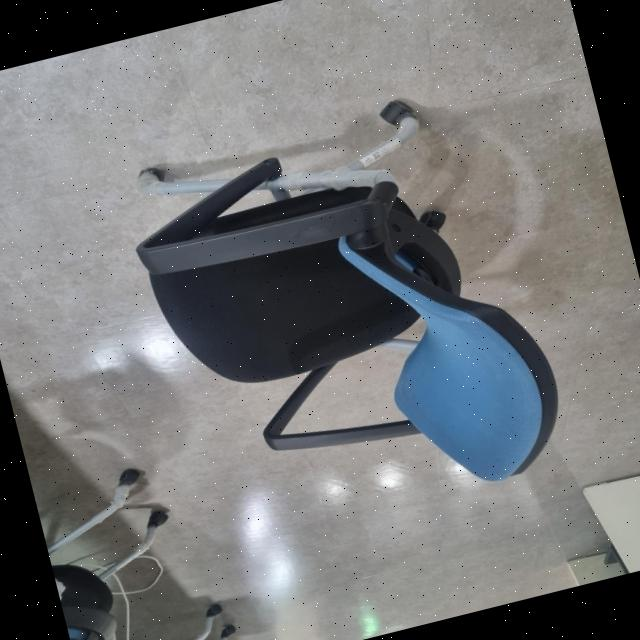Chair: (82, 47, 604, 572)
